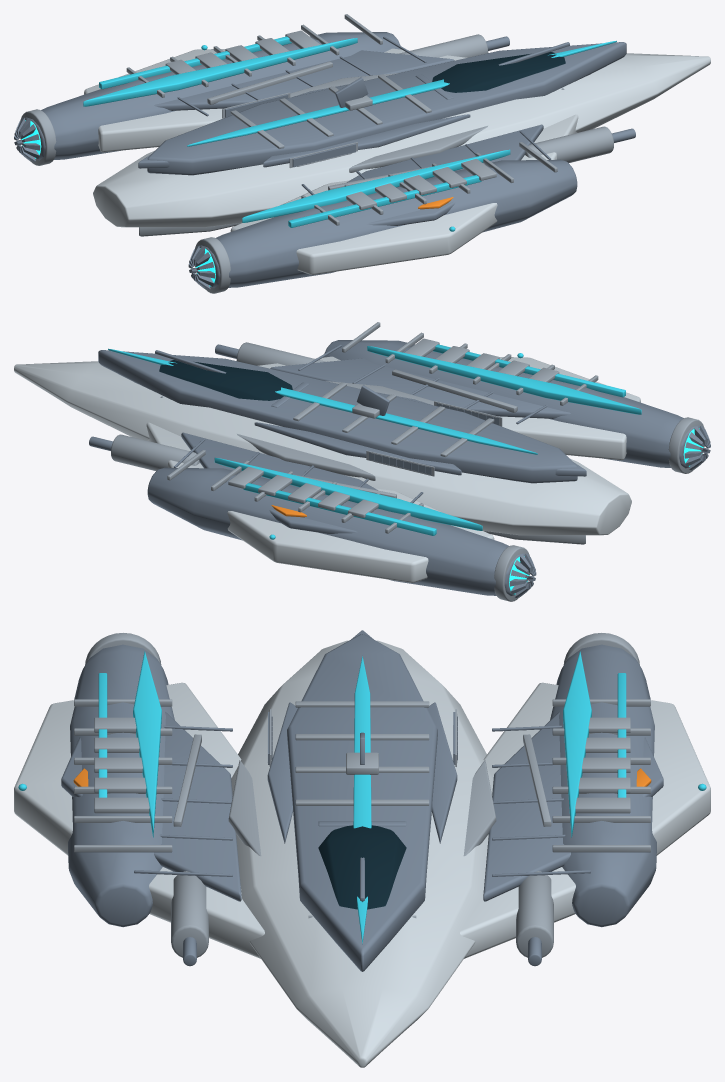
Rendered from wasp_production_v1_lod0.glb.
3 views of the same model, one above another, from view 1: azimuth 30°, elevation 25°; view 2: azimuth 150°, elevation 25°; view 3: azimuth 270°, elevation 25° (orthographic). The views are drawn at different scales.
Visible parts, largest first — view 1: LOD0_Armor, LOD0_Hull, LOD0_Mechanical, LOD0_Accent, LOD0_Canopy; view 2: LOD0_Armor, LOD0_Hull, LOD0_Mechanical, LOD0_Accent, LOD0_Canopy; view 3: LOD0_Armor, LOD0_Hull, LOD0_Mechanical, LOD0_Accent, LOD0_Canopy.
Part boxes in pixels (x1,y1,x2,y2): LOD0_Armor: [14, 32, 635, 289]; LOD0_Hull: [84, 48, 710, 274]; LOD0_Mechanical: [20, 14, 613, 293]; LOD0_Accent: [83, 36, 616, 231]; LOD0_Canopy: [432, 52, 565, 92]; LOD0_Armor: [89, 340, 710, 597]; LOD0_Hull: [14, 356, 640, 582]; LOD0_Mechanical: [111, 322, 704, 601]; LOD0_Accent: [108, 344, 641, 539]; LOD0_Canopy: [159, 360, 292, 400]; LOD0_Armor: [61, 630, 663, 971]; LOD0_Hull: [14, 640, 710, 1067]; LOD0_Mechanical: [74, 633, 650, 957]; LOD0_Accent: [18, 651, 706, 944]; LOD0_Canopy: [318, 825, 406, 909].
Size of what is drawn, in the model's own units: 22.12 by 3.7 by 16.16.
